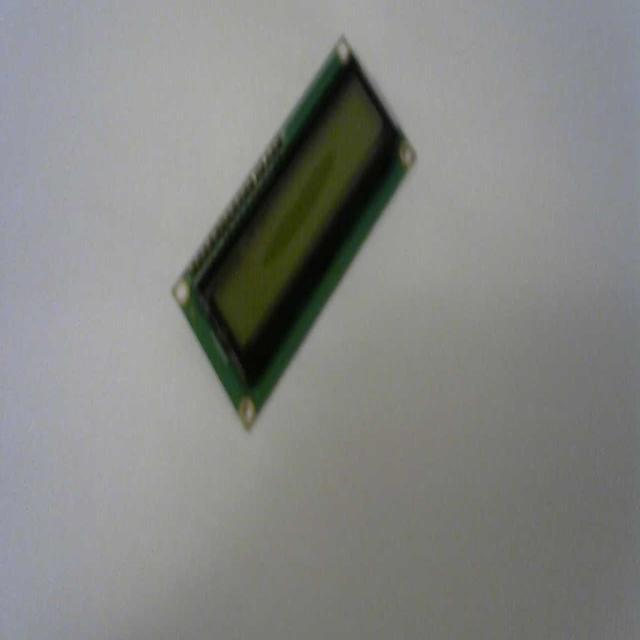lcd: (171, 32, 417, 431)
